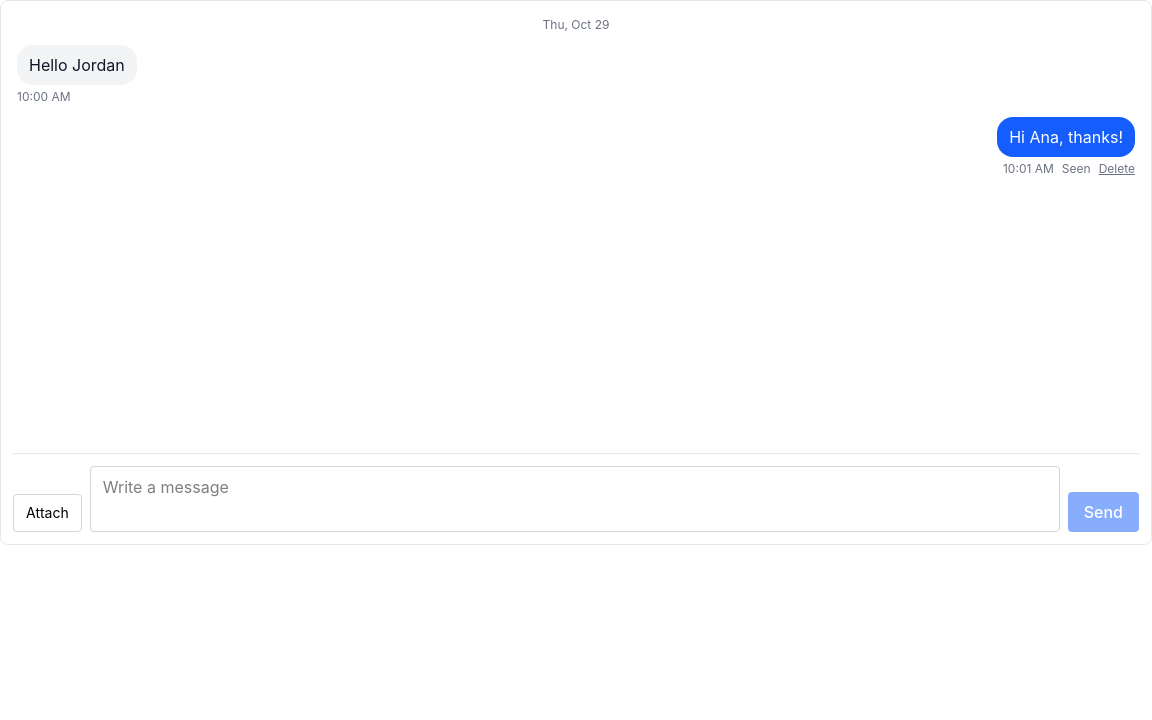
Test: Chat › deletes my message only after confirming
The width and height of the screenshot is (1152, 720).
Expected: the text "Hi Ana, thanks!" is shown, [1009,125,1123,149]
Click the button "Delete". click: (1117, 169)
box: [1099,161,1135,177]
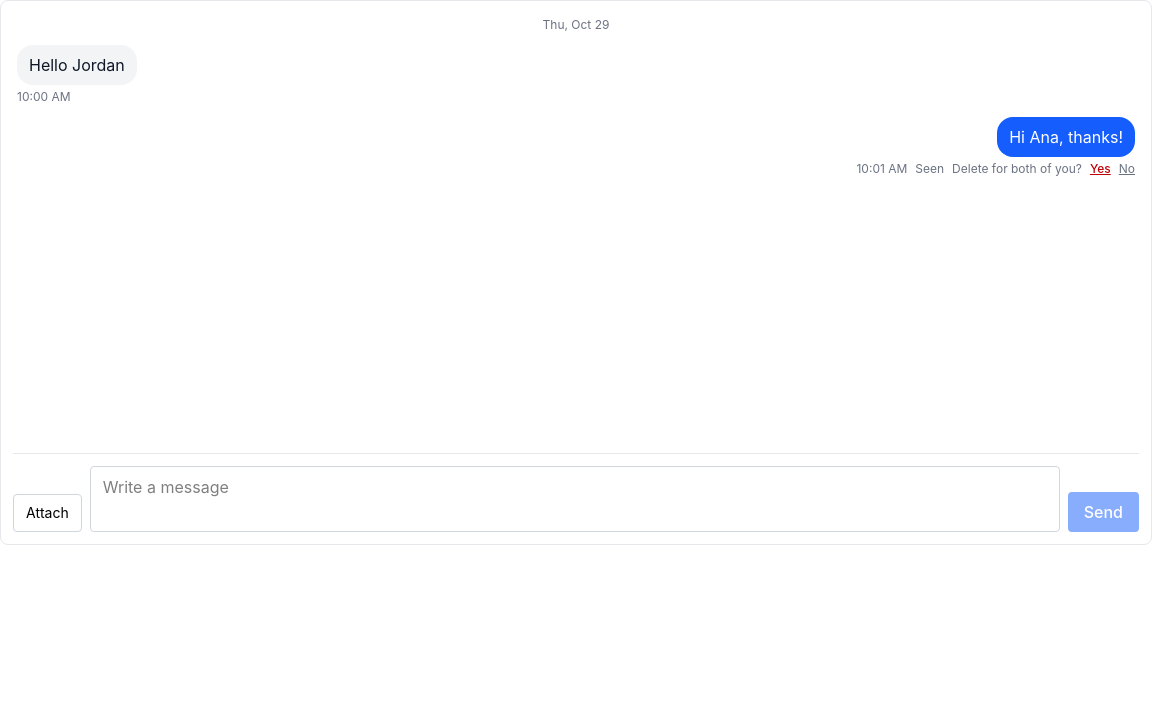
Click the button "No". click: (1127, 169)
box: [1119,161,1135,177]
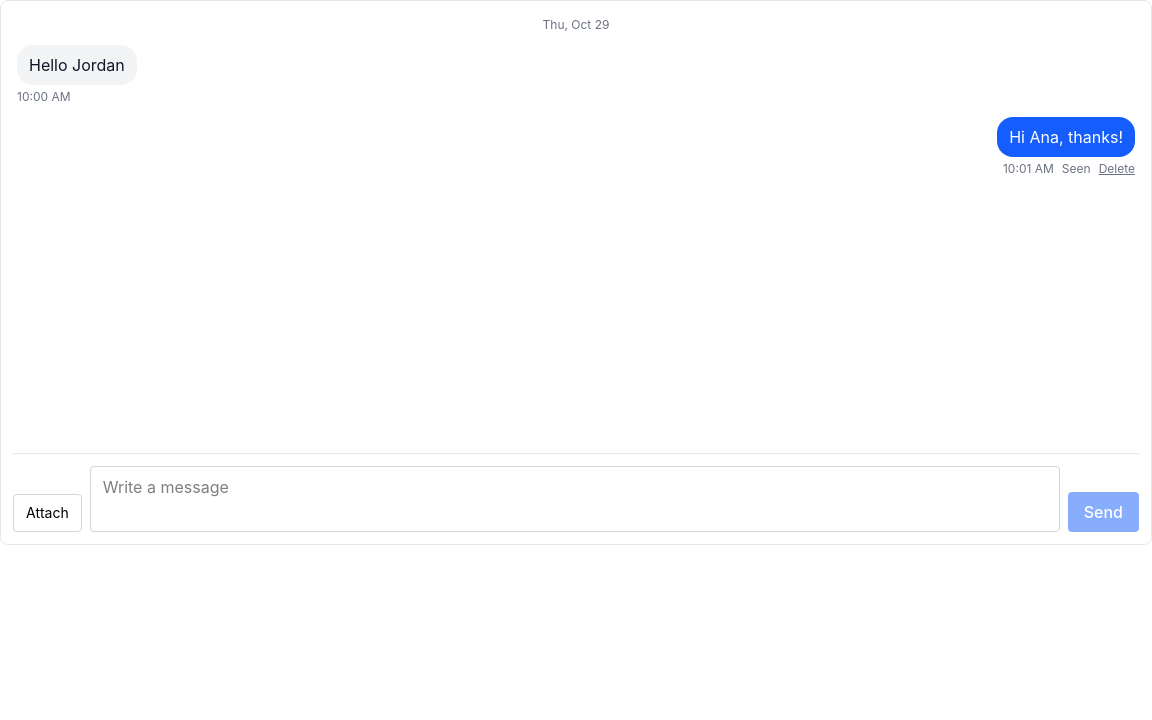
Click the button "Delete". click: (1117, 169)
box: [1099,161,1135,177]
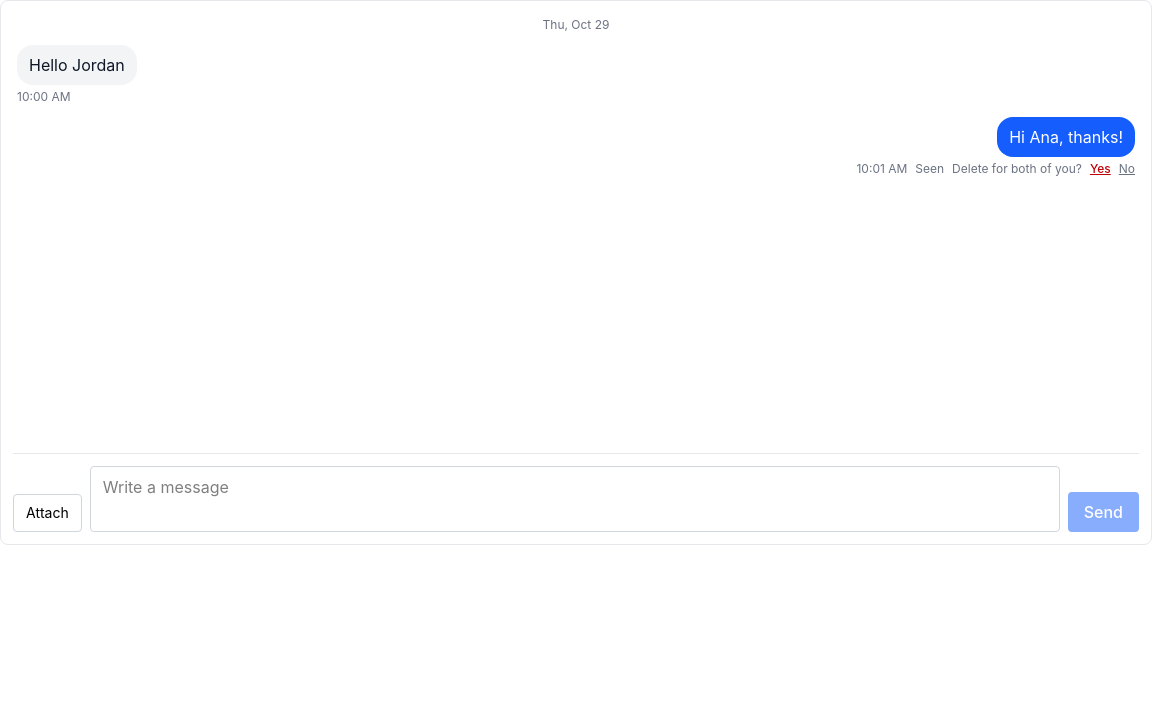
Click the button "Yes". click: (1100, 169)
box: [1090,161,1111,177]
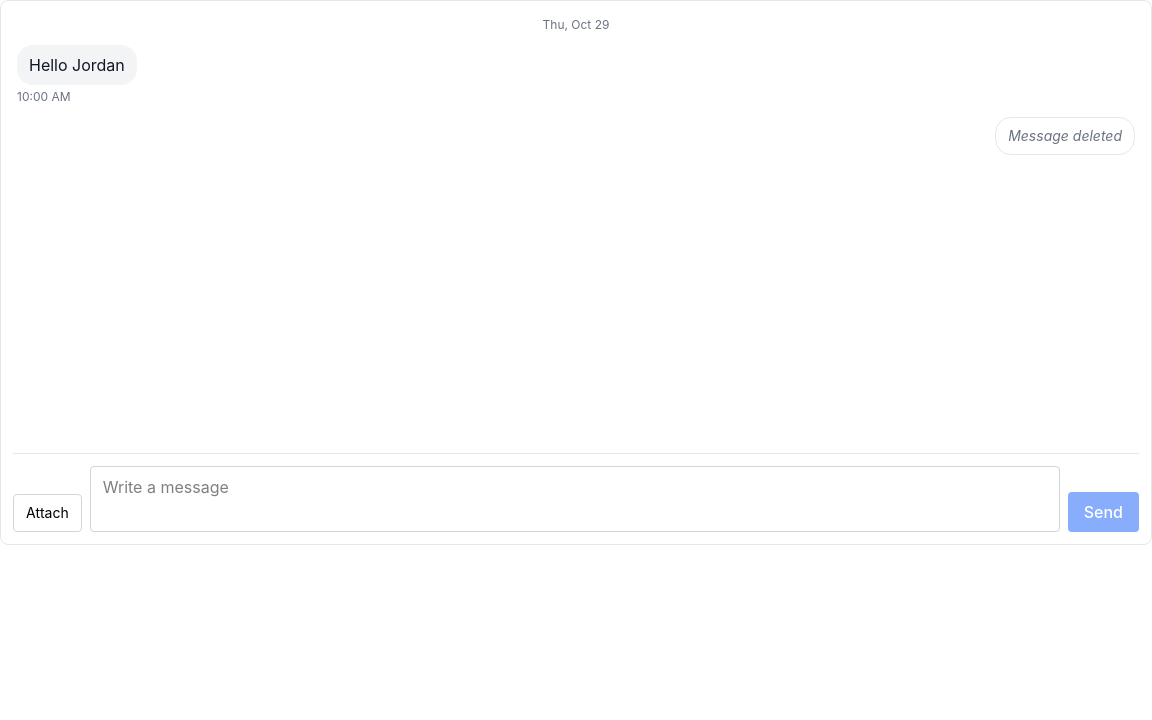
Now the text "Message deleted" is shown, box [995,117,1135,155]
